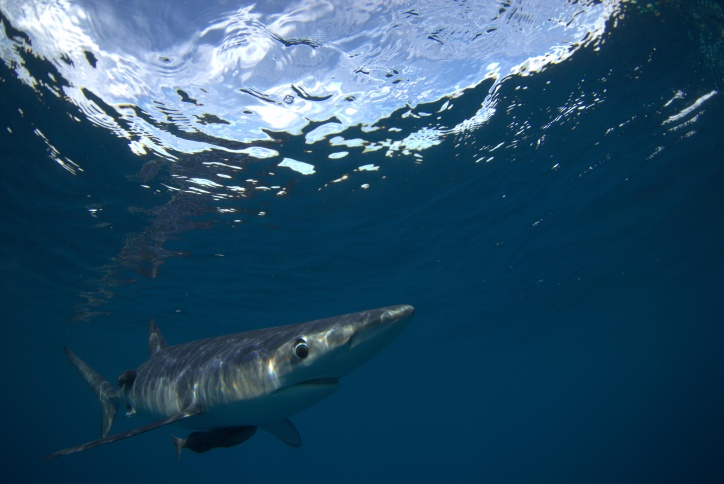Azul: (1, 290, 424, 475)
